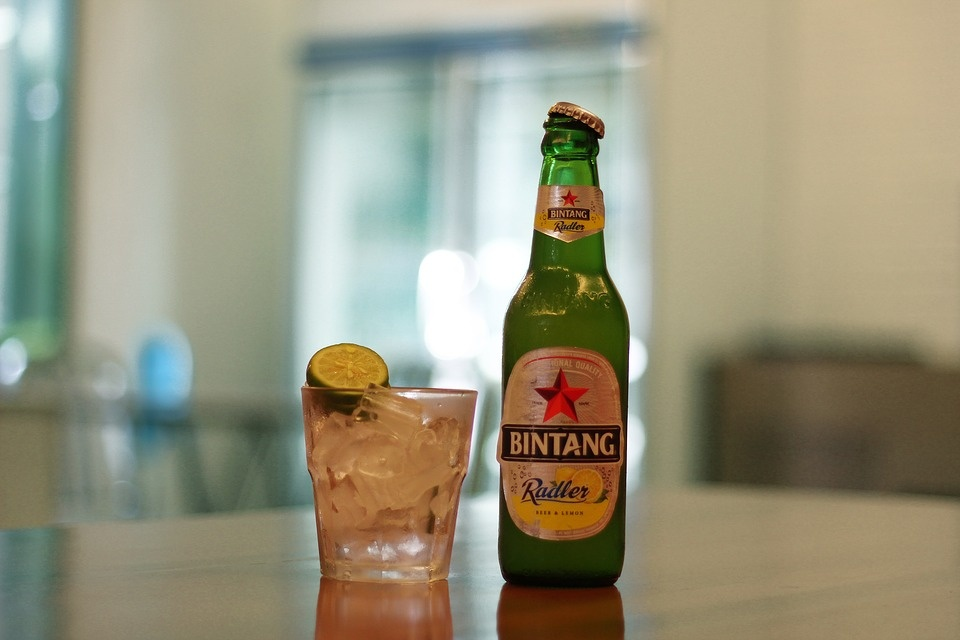beerBottle: (506, 119, 622, 580)
